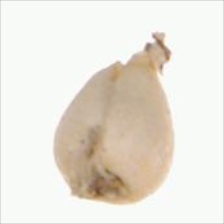L3: (105, 32, 168, 82)
L4: (52, 34, 176, 205)
